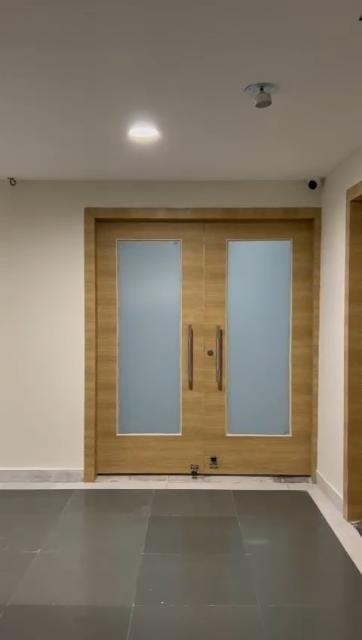door: (84, 204, 310, 482)
floor: (0, 477, 362, 640)
wall: (0, 186, 86, 474)
